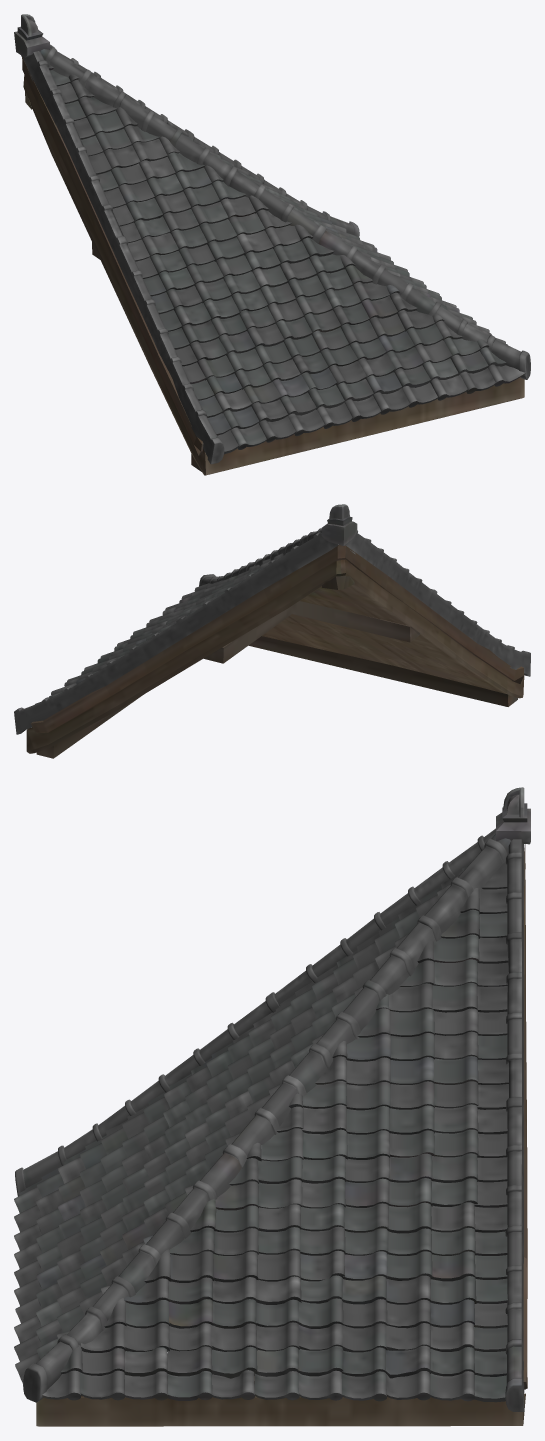
File: Architecture_JapaneseStyle_TriangleStairsCorner_30461e.glb
3 renders of one model, top to bottom at view 1: azimuth 30°, elevation 25°; view 2: azimuth 150°, elevation 25°; view 3: azimuth 270°, elevation 25°, orthographic. The views are drawn at different scales.
Size of the model in its own units: 4.26 by 3.95 by 4.27.
Materials: 1 (1 with a texture image).
